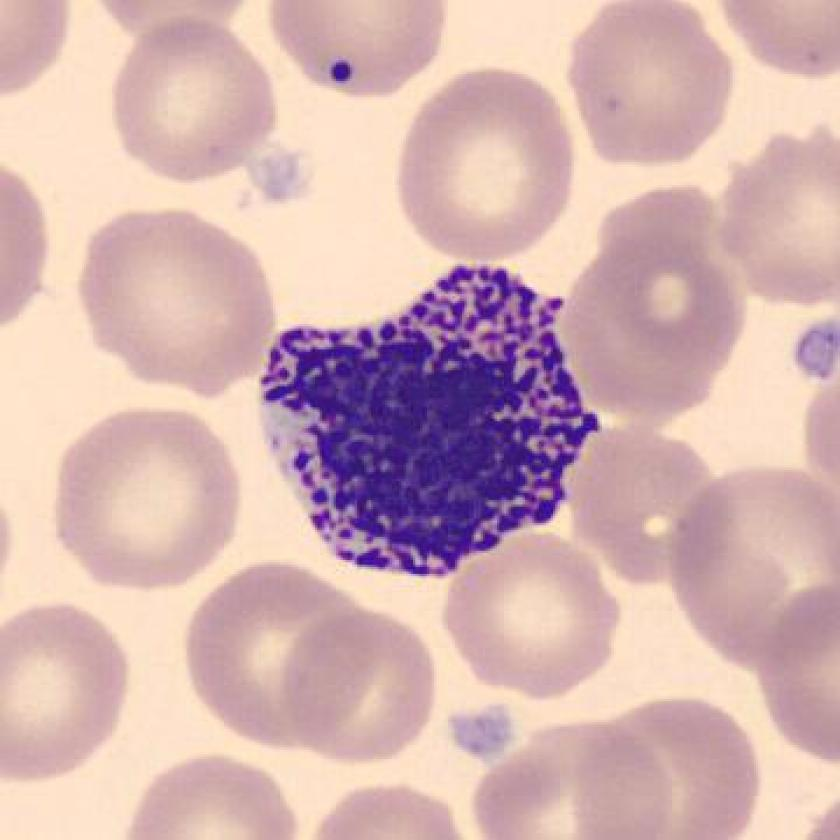basophil: (251, 258, 605, 577)
